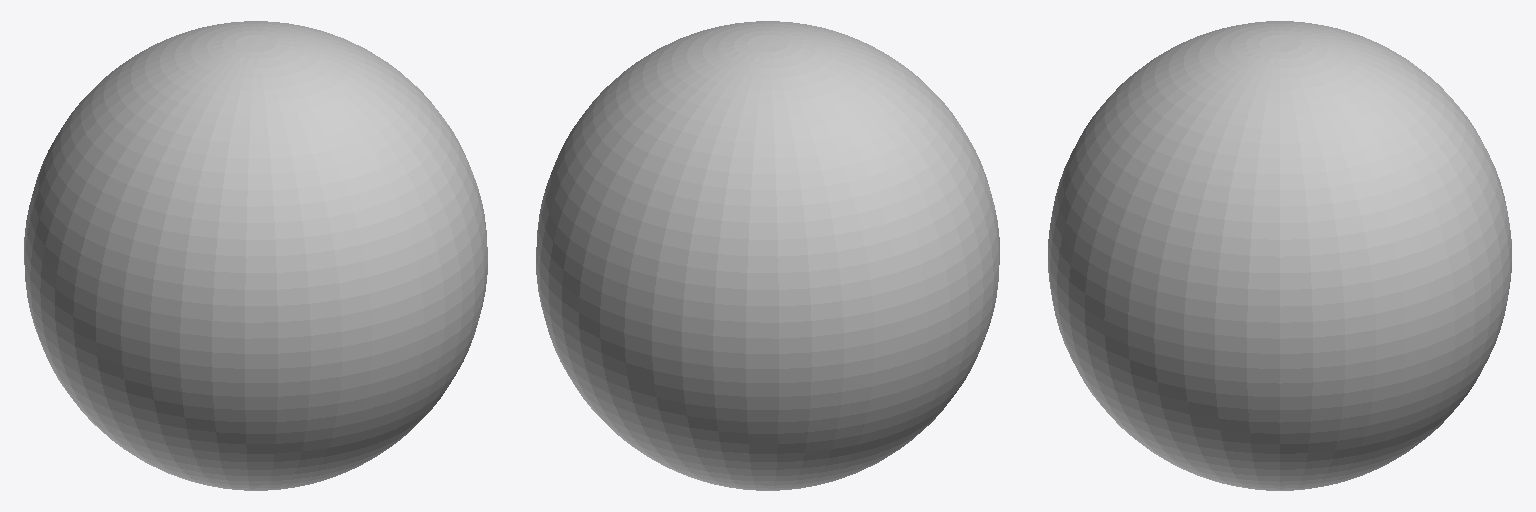
Rendered from Earth2.obj.
The picture shows the model from 3 angles: view 1: azimuth 30°, elevation 25°; view 2: azimuth 150°, elevation 25°; view 3: azimuth 270°, elevation 25°; orthographic projection.
Visible parts, largest first — view 1: Earth.001; view 2: Earth.001; view 3: Earth.001.
Part boxes in pixels (bbox=[...]): Earth.001: bbox=[24, 21, 487, 490]; Earth.001: bbox=[536, 21, 999, 490]; Earth.001: bbox=[1048, 21, 1511, 490].
Size of the model in its own units: 1.97 by 1.99 by 1.97.